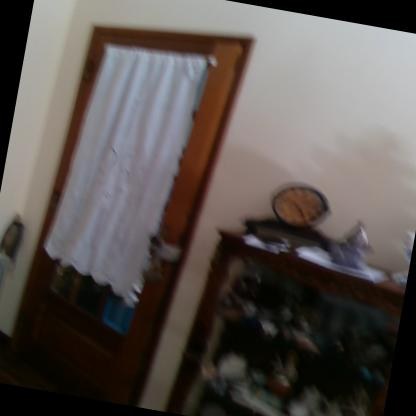closed: (9, 0, 264, 415)
